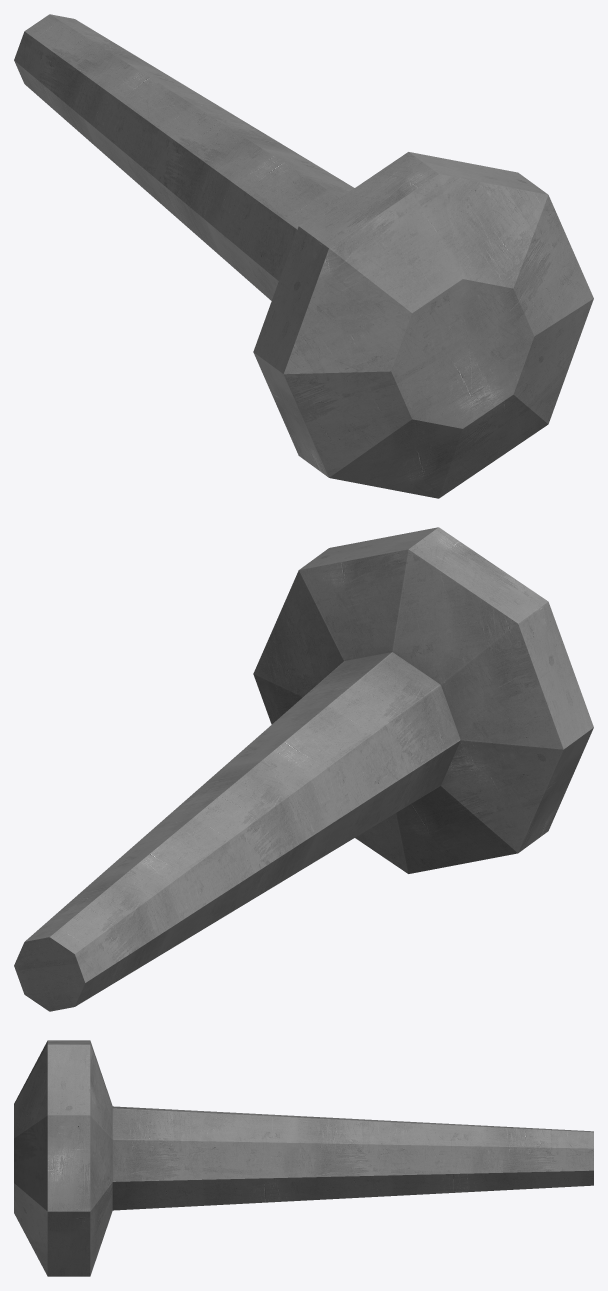
File: Nail1.gltf
3 views of the same model, one above another, from view 1: azimuth 30°, elevation 25°; view 2: azimuth 150°, elevation 25°; view 3: azimuth 270°, elevation 25° (orthographic). The views are drawn at different scales.
Visible parts, largest first — view 1: Cylinder.001; view 2: Cylinder.001; view 3: Cylinder.001.
Boxes of the visible parts, x1,y1,x2,y2 form: Cylinder.001: (14,14,593,498); Cylinder.001: (14,527,593,1011); Cylinder.001: (14,1040,593,1276).
Size of the model in its own units: 1.14 by 1.14 by 2.64.
Materials: 1 (1 with a texture image).
